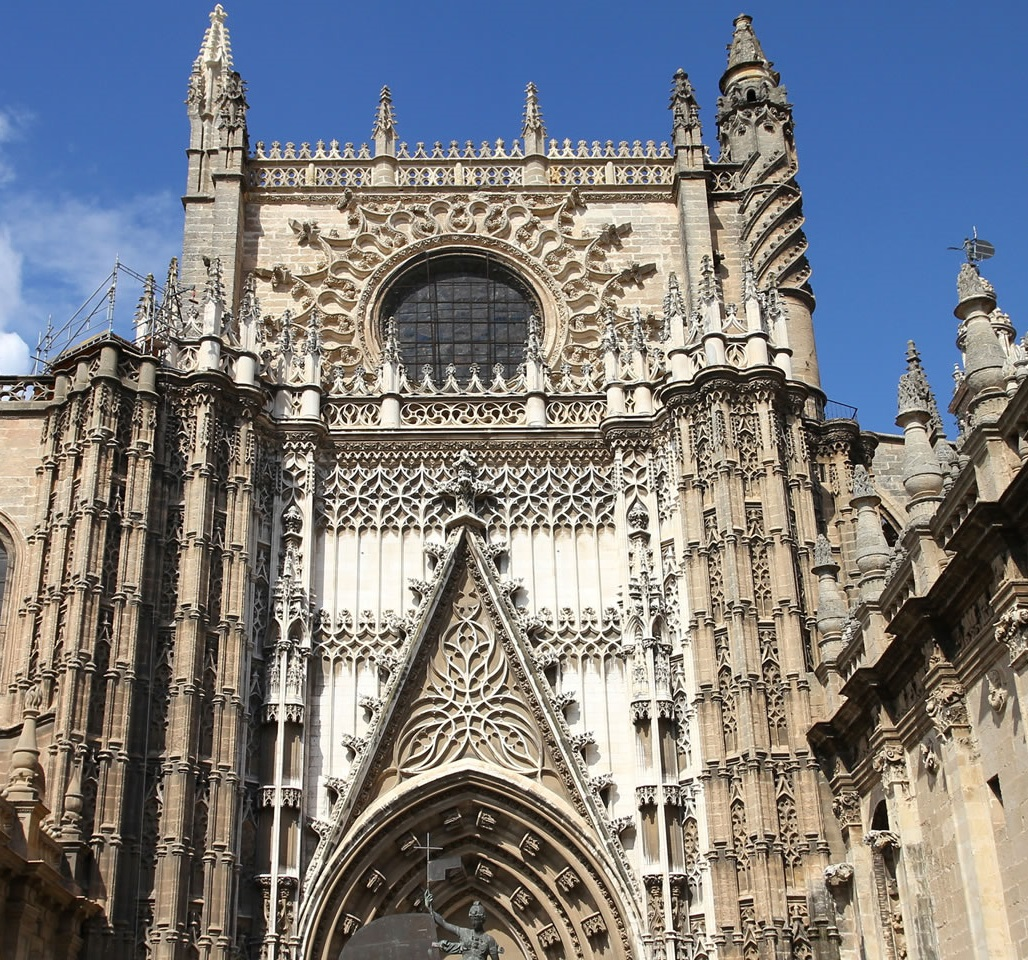arco-apuntado: (300, 764, 646, 960)
pinaculo-gotico: (180, 1, 248, 119), (667, 62, 704, 137), (369, 75, 402, 150), (519, 75, 550, 143), (518, 312, 547, 367), (380, 310, 403, 368)
